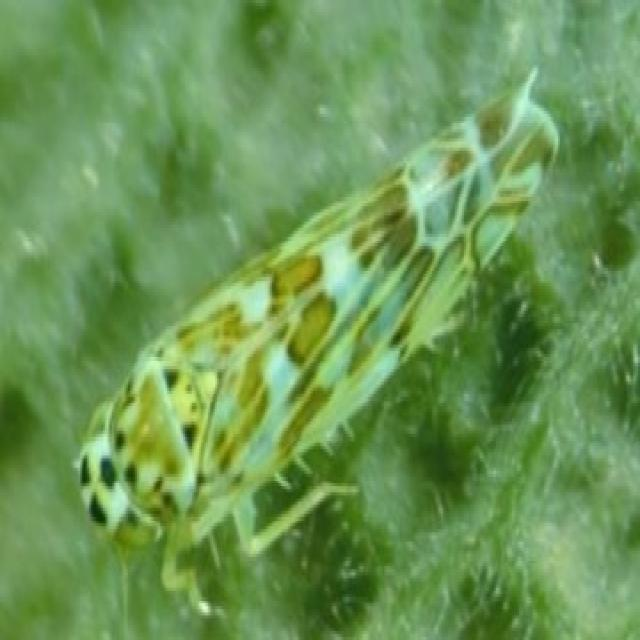Yechan: (56, 70, 583, 586)
